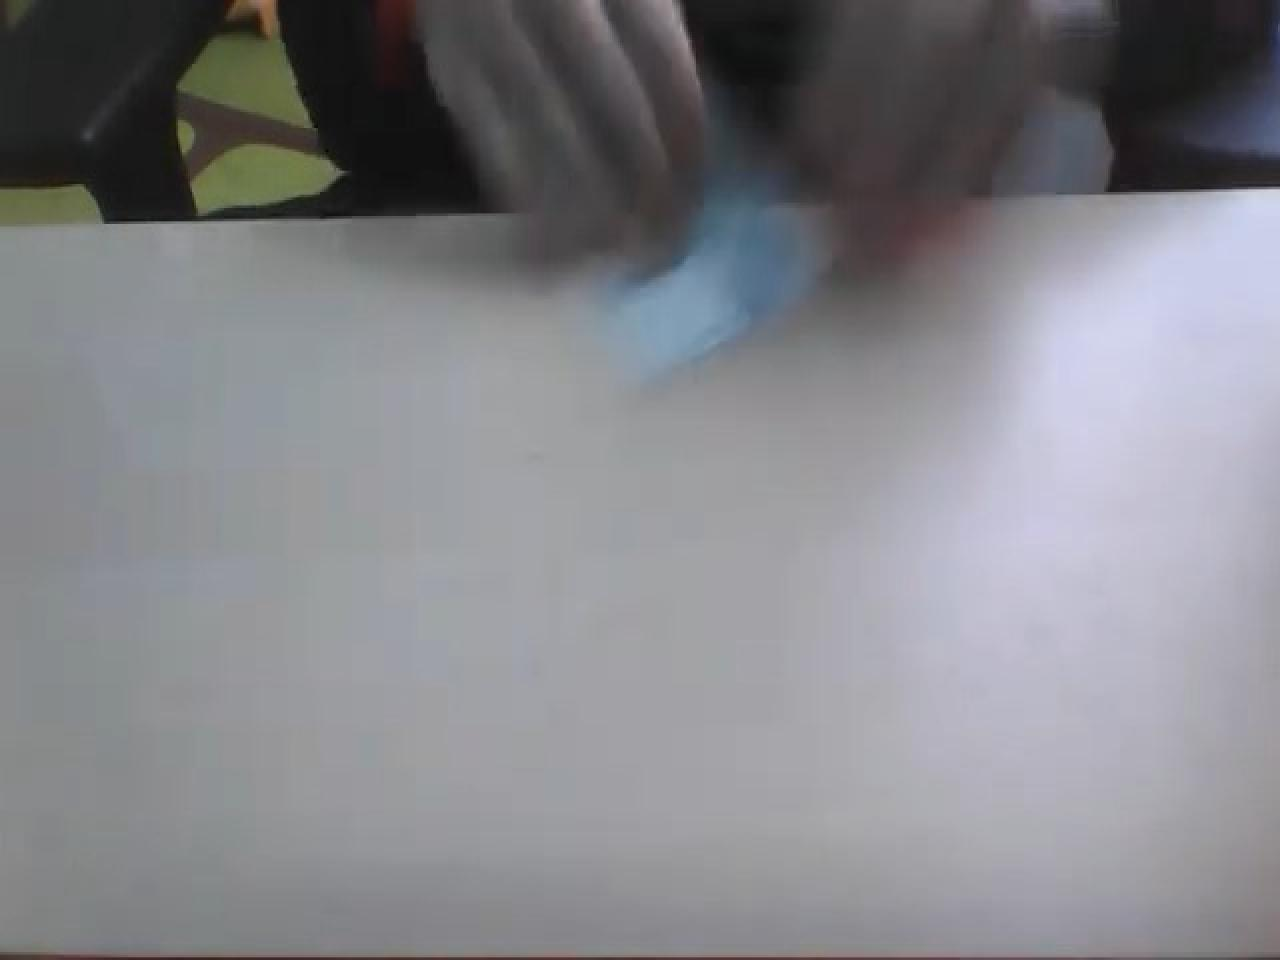100leva: (4, 5, 1278, 952)
